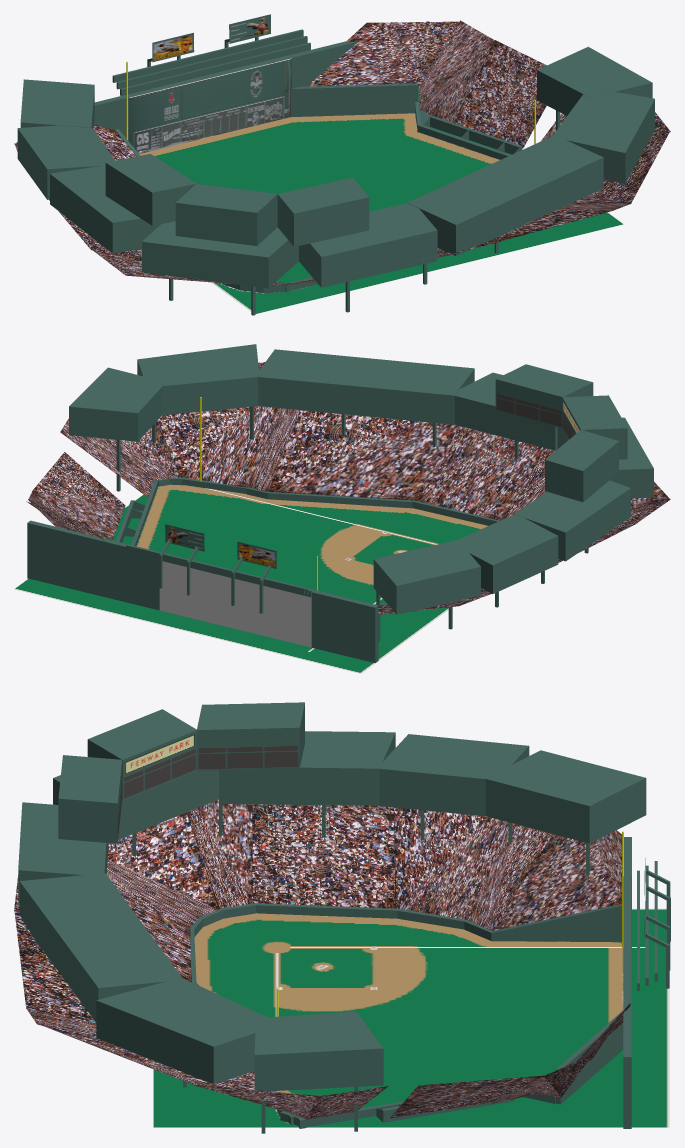
Rendered from fenway.obj.
3 renders of one model, top to bottom at view 1: azimuth 30°, elevation 25°; view 2: azimuth 150°, elevation 25°; view 3: azimuth 270°, elevation 25°, orthographic. The views are drawn at different scales.
Size of the model in its own units: 185 by 39.48 by 151.
